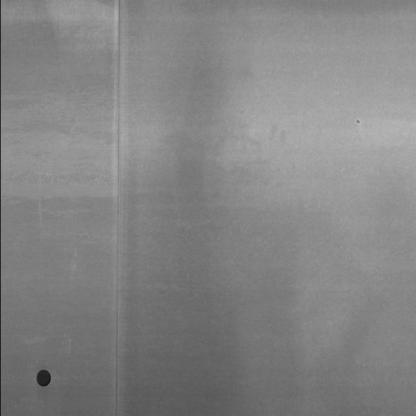oil_spot: (349, 117, 366, 125)
punching_hole: (31, 366, 54, 390)
welding_line: (102, 1, 132, 414)
